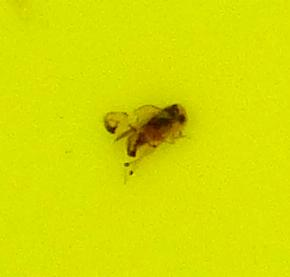Hemiptera: (100, 100, 190, 177)
